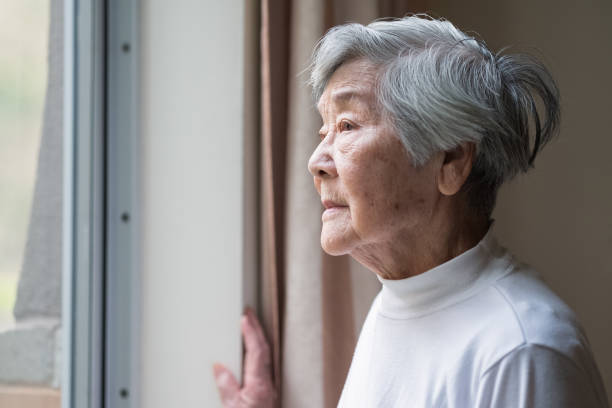without mask: (301, 54, 527, 274)
